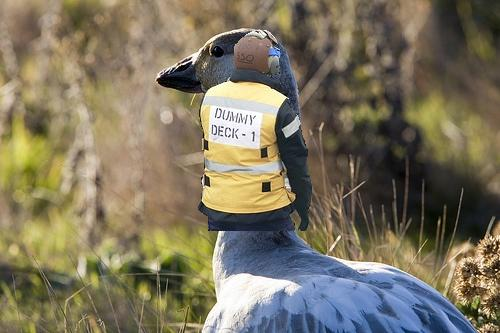tampered: (199, 30, 312, 231)
